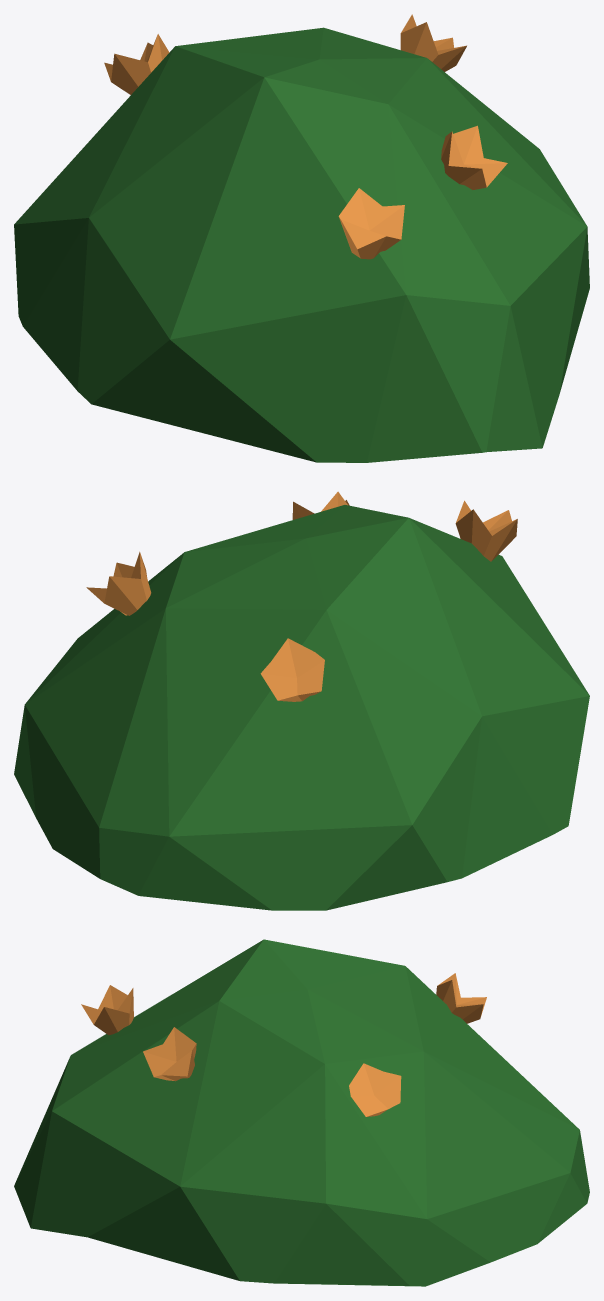
The model's file is Bush2.3.glb.
3 views of the same model, one above another, from view 1: azimuth 30°, elevation 25°; view 2: azimuth 150°, elevation 25°; view 3: azimuth 270°, elevation 25° (orthographic). The views are drawn at different scales.
Visible parts, largest first — view 1: Bush2.3; view 2: Bush2.3; view 3: Bush2.3.
Boxes of the visible parts, x1,y1,x2,y2 form: Bush2.3: (14,14,589,462); Bush2.3: (14,491,589,910); Bush2.3: (14,939,589,1286).
Bounding box in the file's own units: 1.22 × 0.6962 × 1.53.
